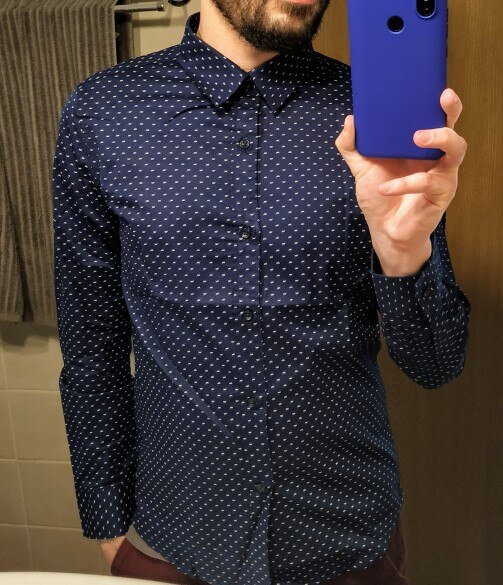shirts: (51, 43, 460, 578)
